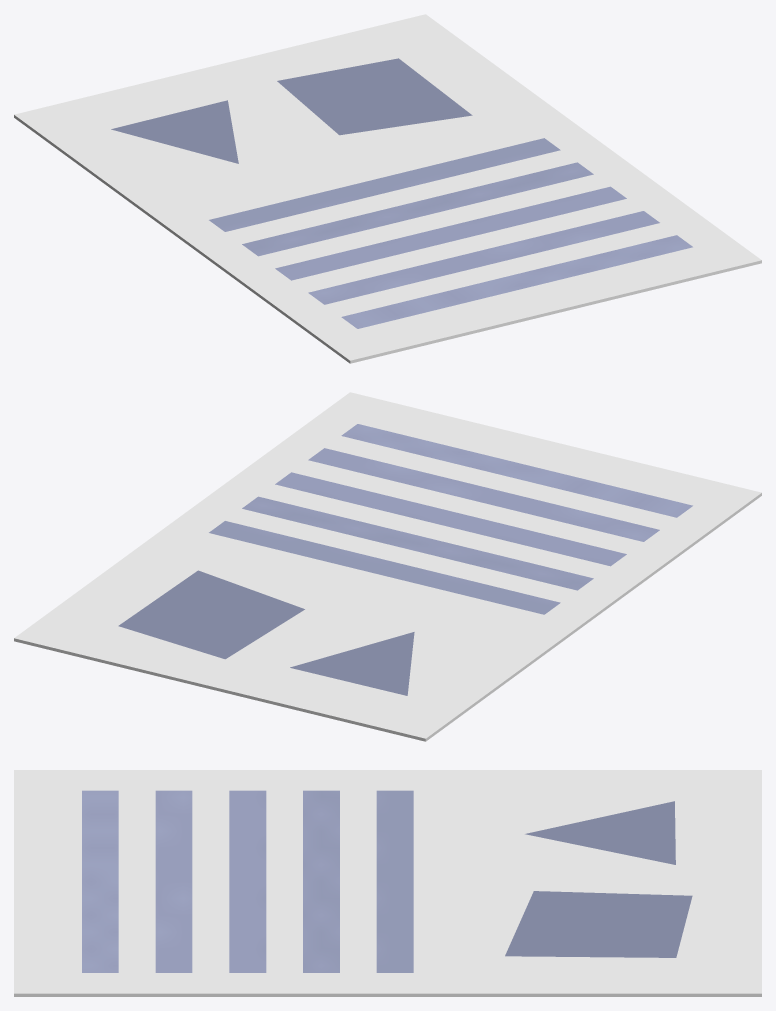
The model's file is papersheet-2.fbx.
3 views of the same model, one above another, from view 1: azimuth 30°, elevation 25°; view 2: azimuth 150°, elevation 25°; view 3: azimuth 270°, elevation 25° (orthographic). The views are drawn at different scales.
Parts seen in each view (by area): view 1: papersheet-2; view 2: papersheet-2; view 3: papersheet-2.
Part boxes in pixels (<box>): papersheet-2: <box>14,14,761,363</box>; papersheet-2: <box>14,392,761,741</box>; papersheet-2: <box>14,770,761,996</box>.
Bounding box in the file's own units: 0.2191 × 0.3098 × 0.00155.
